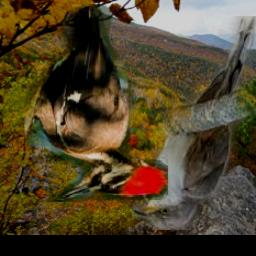Cuckoo: (132, 17, 256, 231)
Woodpecker: (19, 5, 168, 203)
